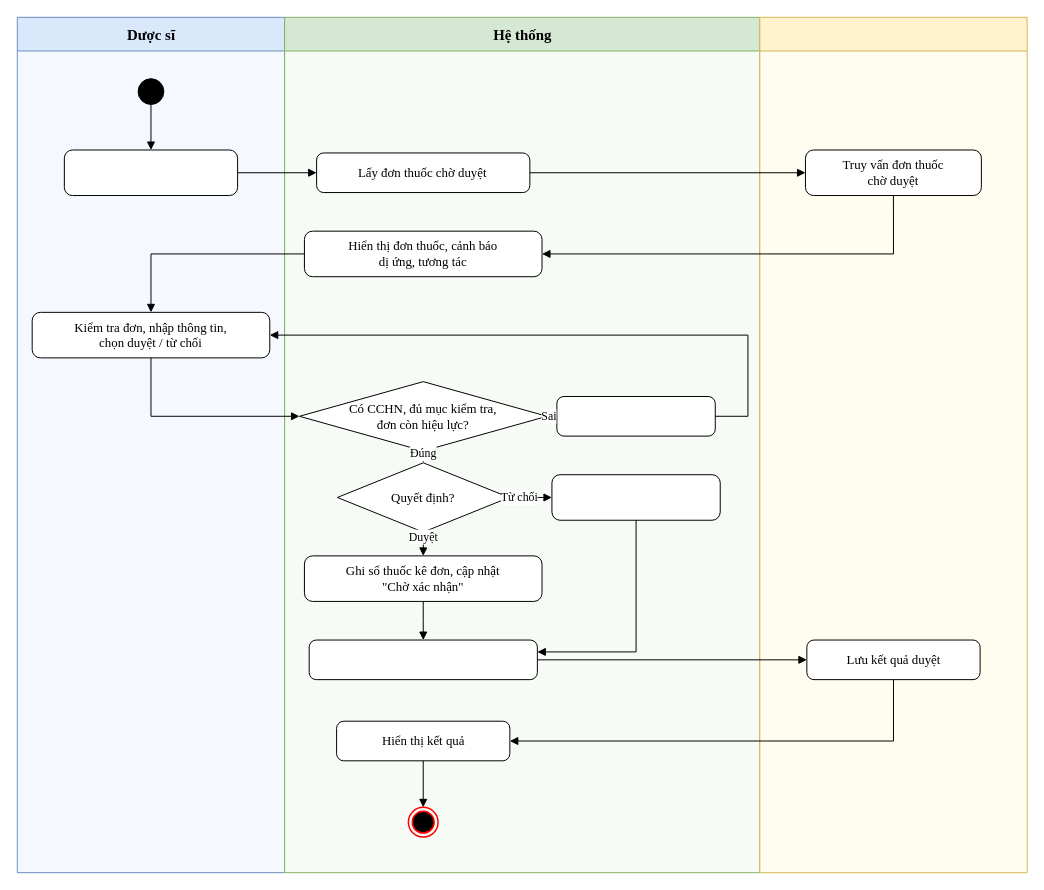
Some shapes in this 1044 by 890 pixel diagram are drawn without their labels. The box of each missing label's shape, as (x1, y1, x2, y2) in pixels:
Chọn chức năng duyệt đơn thuốc: (63, 149, 238, 196)
Cơ sở dữ liệu: (759, 16, 1027, 873)
Cập nhật "Từ chối", lưu lý do: (551, 474, 720, 520)
Gửi lệnh lưu trữ đến CSDL: (308, 639, 537, 680)
Thông báo lỗi: (556, 396, 715, 436)
